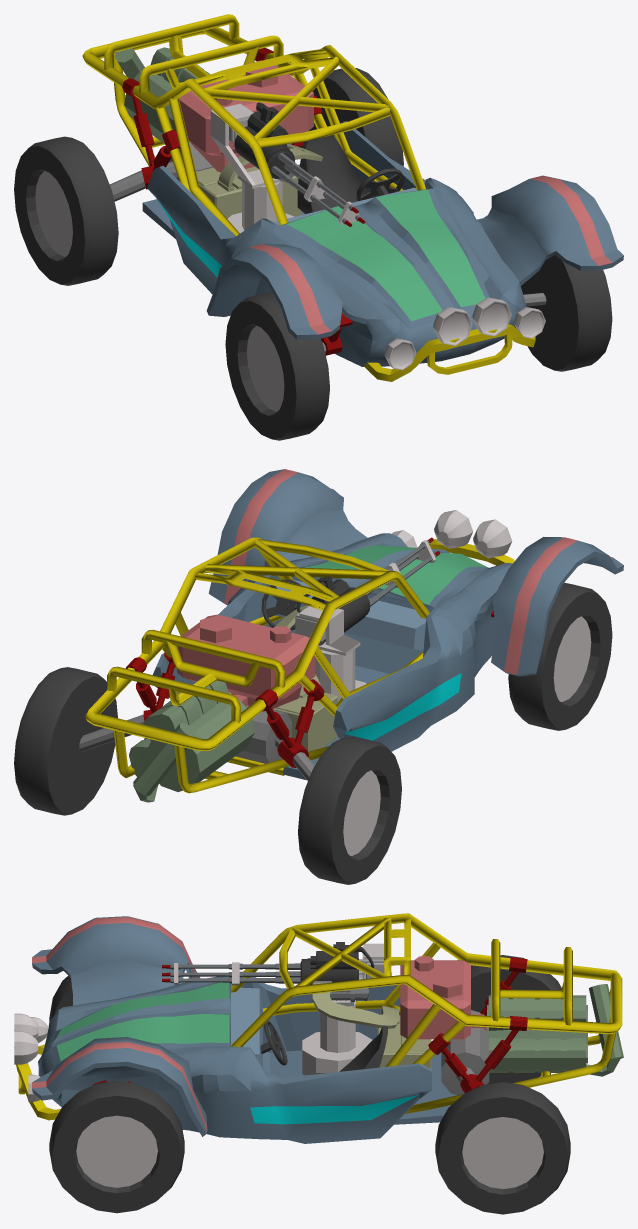
Rendered from Buggy Smoothed.fbx.
The picture shows the model from 3 angles, top to bottom: view 1: azimuth 30°, elevation 25°; view 2: azimuth 150°, elevation 25°; view 3: azimuth 270°, elevation 25°; orthographic projection. The views are drawn at different scales.
Parts seen in each view (by area): view 1: Buggy; view 2: Buggy; view 3: Buggy.
Part boxes in pixels (box(x1,y1,x2,y2)): Buggy: box(14, 14, 623, 440); Buggy: box(14, 469, 623, 884); Buggy: box(14, 913, 623, 1214).
Bounding box in the file's own units: 6.15 × 3.95 × 10.9.
